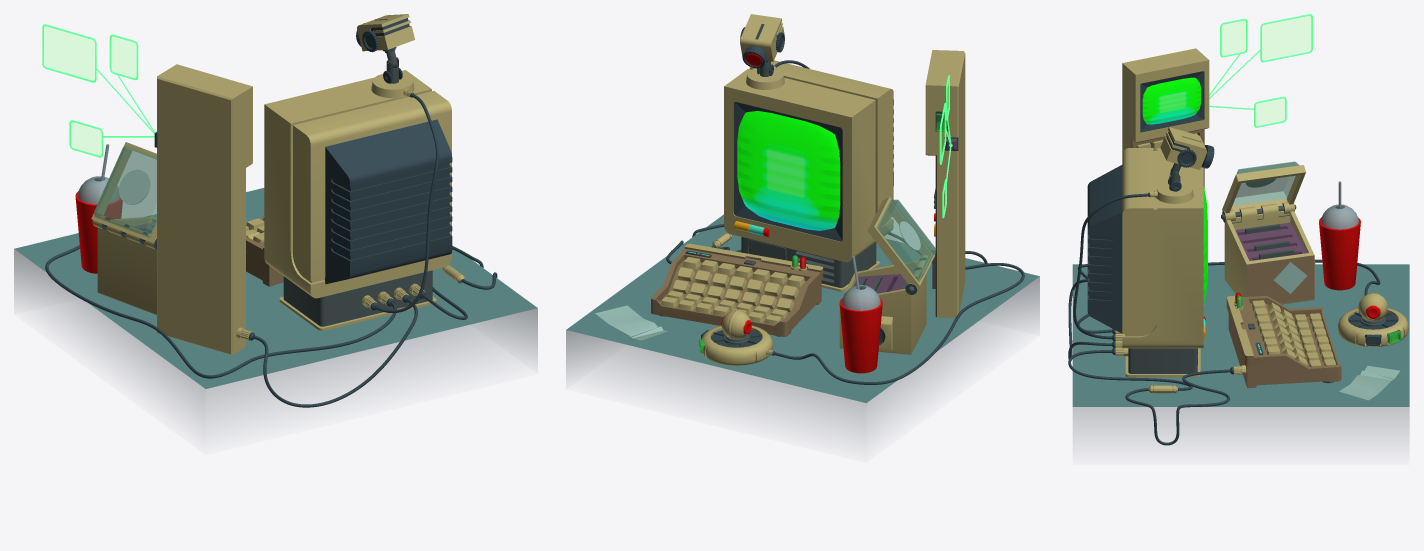
Rendered from xyz_homework_detailing._retro_computer.glb.
3 renders of one model, left to right at view 1: azimuth 30°, elevation 25°; view 2: azimuth 150°, elevation 25°; view 3: azimuth 270°, elevation 25°, orthographic. The views are drawn at different scales.
Parts seen in each view (by area): view 1: Object_21, Object_9, Object_8, Object_13, Object_12, Object_11, Object_7, Object_22, Object_23, Object_15, Object_20, Object_17 (+1 smaller); view 2: Object_21, Object_9, Object_8, Object_26, Object_20, Object_12, Object_11, Object_23, Object_7, Object_17, Object_13, Object_24 (+3 smaller); view 3: Object_21, Object_9, Object_8, Object_13, Object_20, Object_12, Object_11, Object_26, Object_23, Object_17, Object_7, Object_25 (+3 smaller).
Boxes of the visible parts, x1,y1,x2,y2 form: Object_21: (91,14,451,354); Object_9: (14,188,537,388); Object_8: (14,249,537,423); Object_13: (101,18,467,340); Object_12: (45,32,497,407); Object_11: (103,51,432,326); Object_7: (94,145,156,237); Object_22: (236,74,464,340); Object_23: (75,191,122,273); Object_15: (42,24,154,157); Object_20: (246,164,283,286); Object_17: (119,169,150,204); Object_21: (661,14,965,365); Object_9: (566,214,1039,403); Object_8: (566,276,1039,434); Object_26: (737,111,840,230); Object_20: (651,154,936,336); Object_12: (666,27,1024,384); Object_11: (659,61,935,344); Object_23: (721,213,935,373); Object_7: (876,199,936,282); Object_17: (595,221,920,340); Object_13: (711,24,958,355); Object_24: (841,256,880,310); Object_21: (1122,48,1408,377); Object_9: (1072,264,1409,406); Object_8: (1073,407,1409,437); Object_13: (1068,132,1398,390); Object_20: (1130,127,1341,388); Object_12: (1068,71,1380,445); Object_11: (1128,133,1386,383); Object_26: (1142,77,1207,305); Object_23: (1319,217,1380,318); Object_17: (1246,178,1399,400); Object_7: (1232,161,1299,205); Object_25: (1235,222,1306,260).
Bounding box in the file's own units: 5.17 × 5.81 × 4.76.
Materials: 24 (2 with a texture image).
